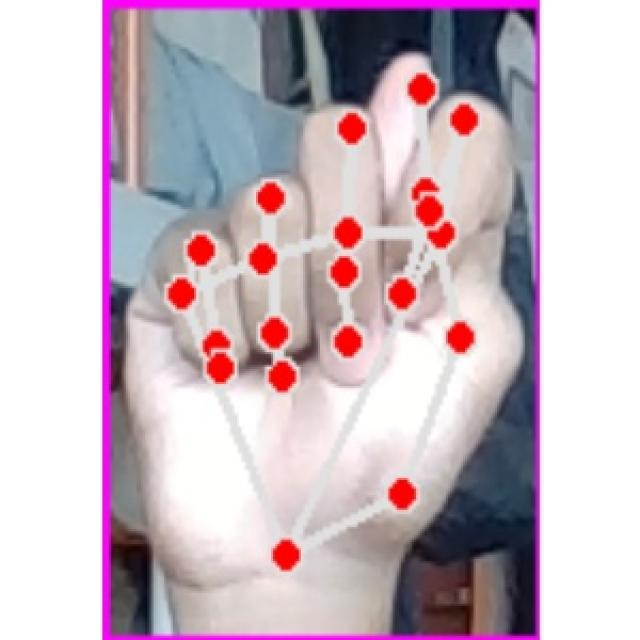T: (121, 35, 521, 592)
